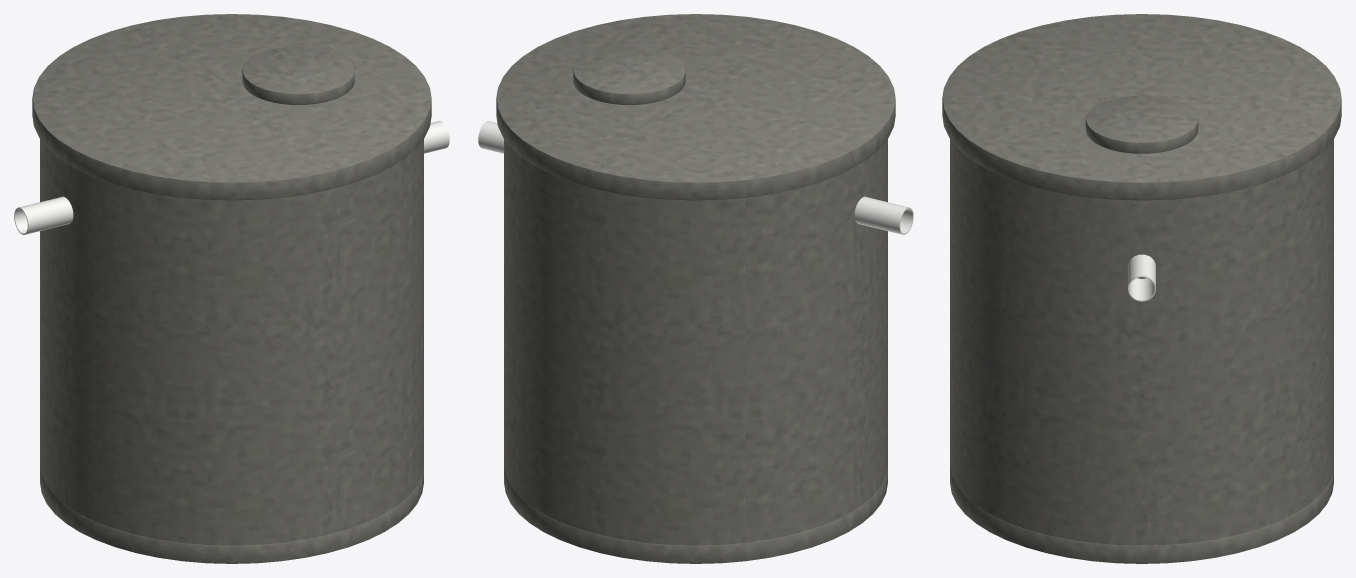
File: HID-TRT-001_lod1.glb
The picture shows the model from 3 angles, left to right: view 1: azimuth 30°, elevation 25°; view 2: azimuth 150°, elevation 25°; view 3: azimuth 270°, elevation 25°; orthographic projection.
Parts seen in each view (by area): view 1: HID-TRT-001_laje, HID-TRT-001_anel0, HID-TRT-001_anel1, HID-TRT-001_anel2, HID-TRT-001_fundo, HID-TRT-001_inspecao, HID-TRT-001_ent, HID-TRT-001_sai; view 2: HID-TRT-001_laje, HID-TRT-001_anel0, HID-TRT-001_anel1, HID-TRT-001_anel2, HID-TRT-001_fundo, HID-TRT-001_inspecao, HID-TRT-001_ent, HID-TRT-001_sai; view 3: HID-TRT-001_laje, HID-TRT-001_anel0, HID-TRT-001_anel1, HID-TRT-001_anel2, HID-TRT-001_fundo, HID-TRT-001_inspecao, HID-TRT-001_sai.
Part boxes in pixels (bbox=[...]): HID-TRT-001_laje: bbox=[32, 14, 431, 200]; HID-TRT-001_anel0: bbox=[40, 350, 423, 545]; HID-TRT-001_anel1: bbox=[40, 234, 423, 429]; HID-TRT-001_anel2: bbox=[40, 139, 423, 313]; HID-TRT-001_fundo: bbox=[40, 466, 423, 563]; HID-TRT-001_inspecao: bbox=[242, 46, 354, 104]; HID-TRT-001_ent: bbox=[14, 196, 73, 234]; HID-TRT-001_sai: bbox=[424, 121, 449, 153]; HID-TRT-001_laje: bbox=[496, 14, 895, 200]; HID-TRT-001_anel0: bbox=[504, 350, 887, 545]; HID-TRT-001_anel1: bbox=[504, 234, 887, 429]; HID-TRT-001_anel2: bbox=[504, 139, 887, 313]; HID-TRT-001_fundo: bbox=[504, 466, 887, 563]; HID-TRT-001_inspecao: bbox=[573, 46, 685, 104]; HID-TRT-001_ent: bbox=[854, 196, 913, 234]; HID-TRT-001_sai: bbox=[478, 121, 503, 153]; HID-TRT-001_laje: bbox=[942, 14, 1341, 200]; HID-TRT-001_anel0: bbox=[950, 350, 1333, 545]; HID-TRT-001_anel1: bbox=[950, 234, 1333, 429]; HID-TRT-001_anel2: bbox=[950, 139, 1333, 313]; HID-TRT-001_fundo: bbox=[950, 466, 1333, 563]; HID-TRT-001_inspecao: bbox=[1085, 95, 1198, 153]; HID-TRT-001_sai: bbox=[1128, 254, 1155, 301].
Size of the model in its own units: 1.9 by 1.71 by 1.56.
2 materials, 1 textured.
